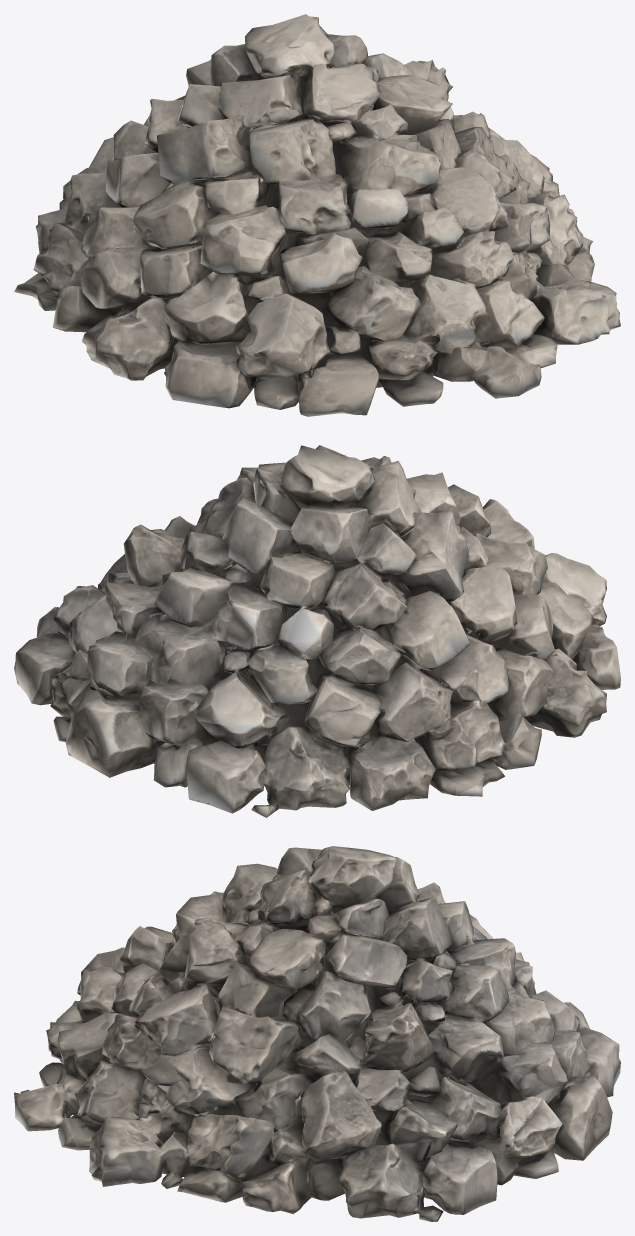
File: talus_a.glb
3 renders of one model, top to bottom at view 1: azimuth 30°, elevation 25°; view 2: azimuth 150°, elevation 25°; view 3: azimuth 270°, elevation 25°, orthographic. The views are drawn at different scales.
Visible parts, largest first — view 1: talus_a; view 2: talus_a; view 3: talus_a.
Part boxes in pixels (x1,y1,x2,y2): talus_a: [14, 14, 620, 416]; talus_a: [14, 445, 620, 817]; talus_a: [14, 846, 620, 1221].
Size of the model in its own units: 19.02 by 9.05 by 20.08.
Materials: 1 (1 with a texture image).
